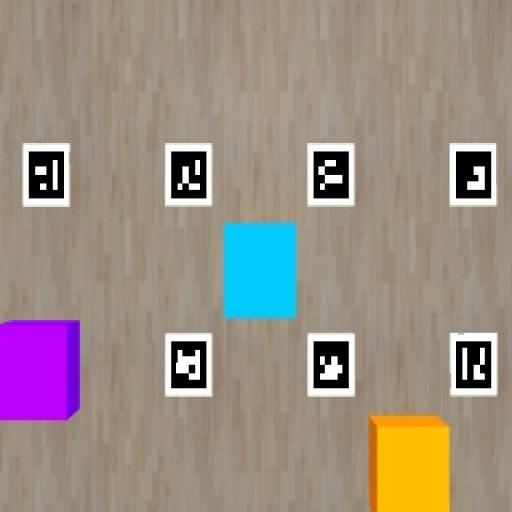car: (0, 320, 79, 422), (223, 222, 297, 319)
fire: (368, 414, 449, 511)
